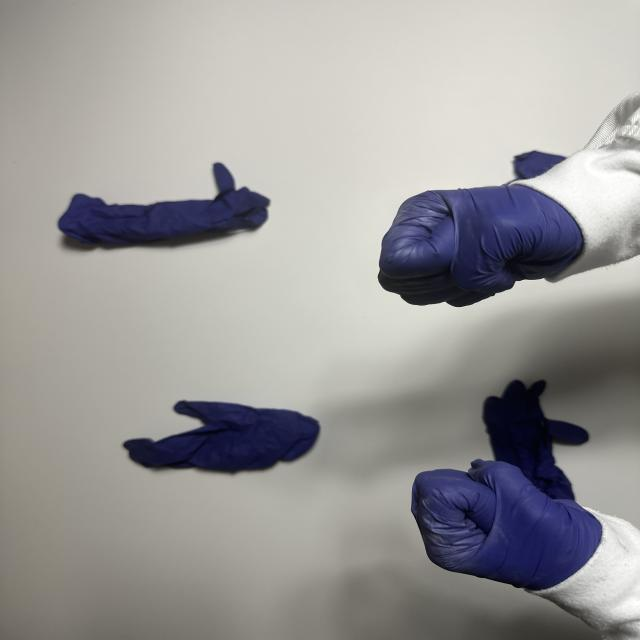gloves_contaminated: (379, 186, 583, 306), (412, 460, 602, 588)
